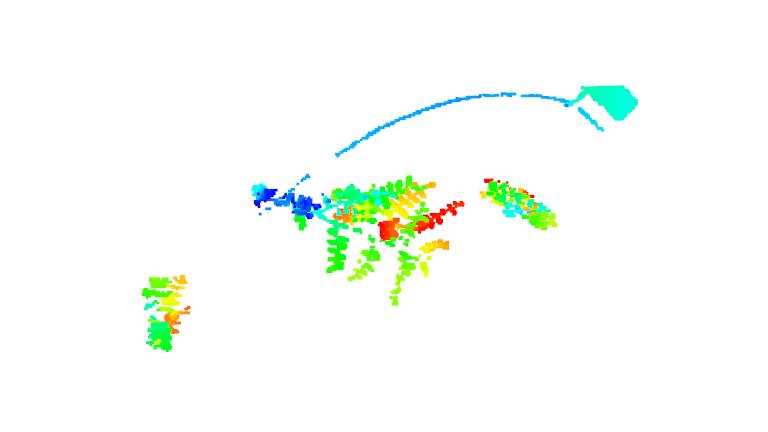chickpea: (246, 177, 392, 284), (363, 171, 467, 306), (134, 264, 196, 357), (481, 176, 558, 231)
